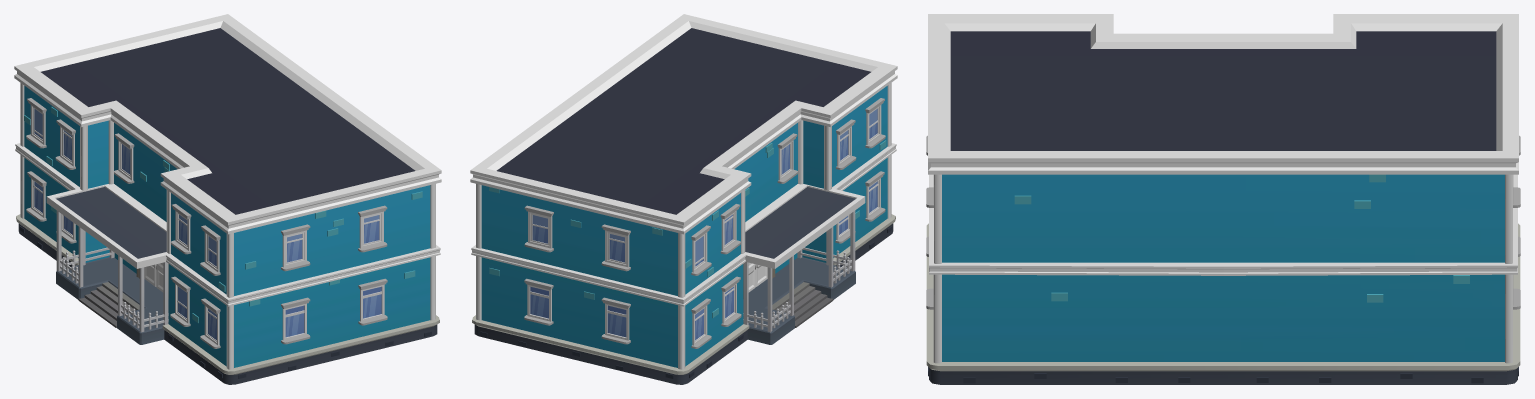
The model's file is Building_5_1_F.fbx.
The picture shows the model from 3 angles, left to right: view 1: azimuth 30°, elevation 25°; view 2: azimuth 150°, elevation 25°; view 3: azimuth 270°, elevation 25°; orthographic projection. The views are drawn at different scales.
Parts seen in each view (by area): view 1: Building_5_1_F; view 2: Building_5_1_F; view 3: Building_5_1_F.
Boxes of the visible parts, x1=… form: Building_5_1_F: x1=14, y1=14, x2=441, y2=384; Building_5_1_F: x1=470, y1=14, x2=897, y2=384; Building_5_1_F: x1=926, y1=14, x2=1520, y2=384.
Bounding box in the file's own units: 1251 × 804 × 1908.
